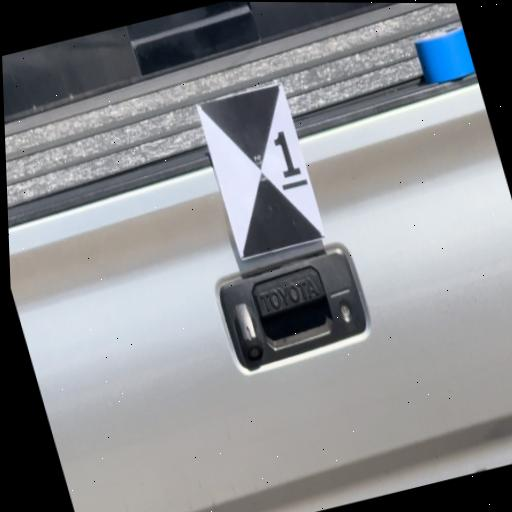target1: (196, 83, 326, 257)
